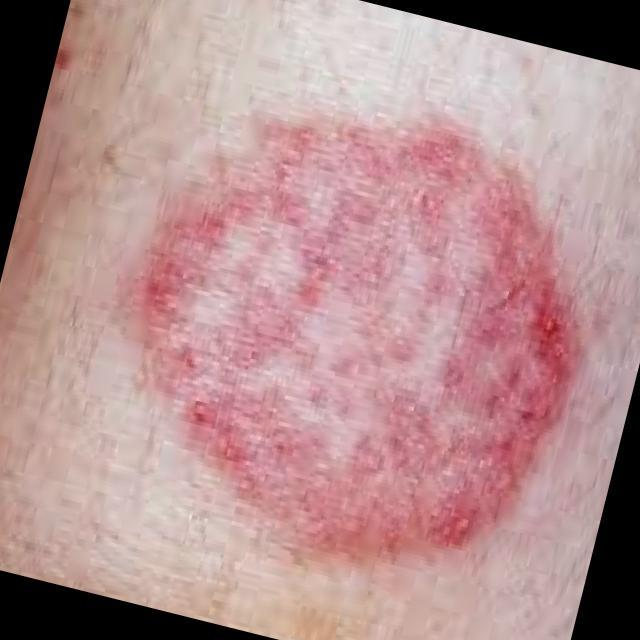Eczema: (147, 125, 572, 554)
